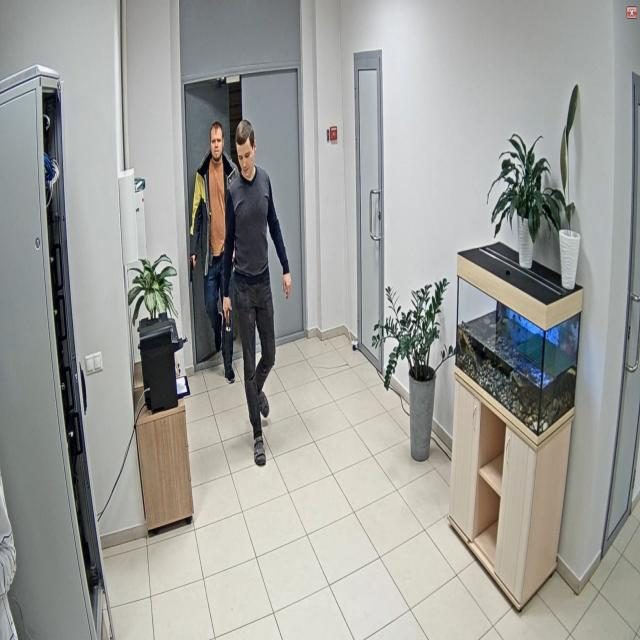-Gun: (225, 310, 231, 378), (190, 256, 196, 282)
